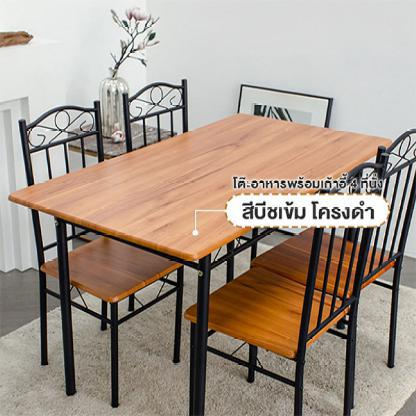table: (4, 105, 395, 415)
